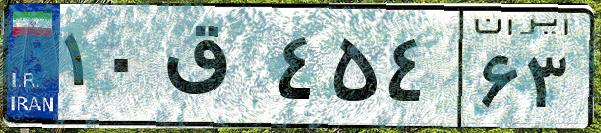0: (110, 28, 158, 98)
1: (57, 26, 110, 100)
3: (525, 38, 570, 115)
4: (270, 28, 330, 110), (385, 28, 445, 110)
5: (330, 28, 385, 110)
6: (475, 38, 525, 113)
ق: (158, 20, 270, 120)
